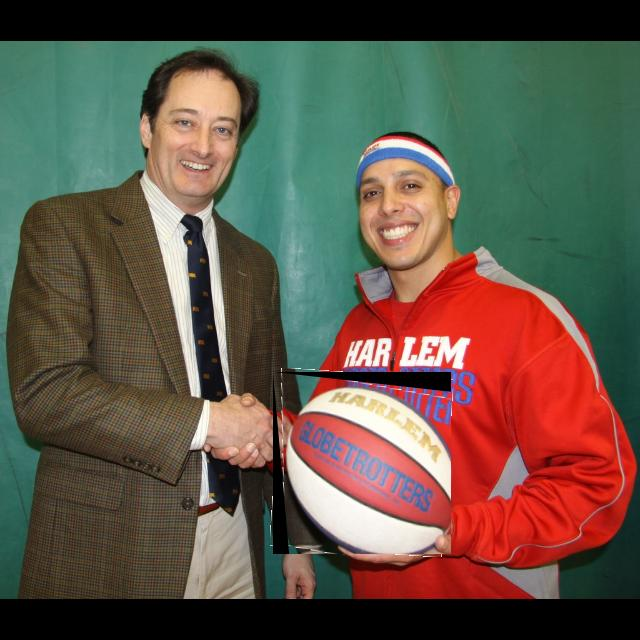Football: (273, 372, 451, 554)
